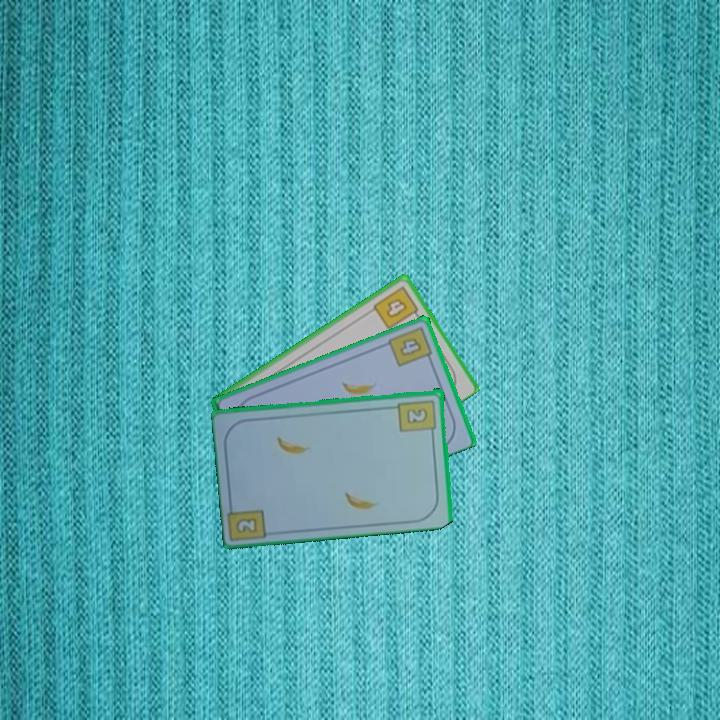2b: (395, 396, 439, 438), (233, 514, 260, 535)
4b: (369, 282, 423, 332), (385, 323, 435, 370)
